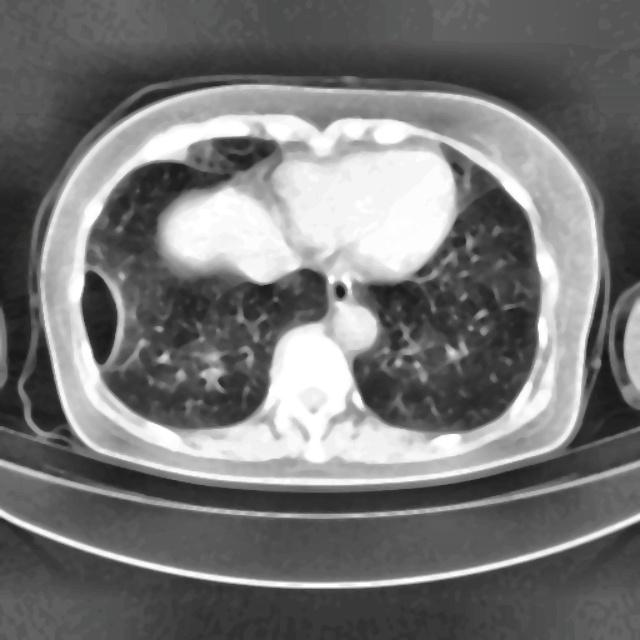covid: (34, 78, 605, 489)
